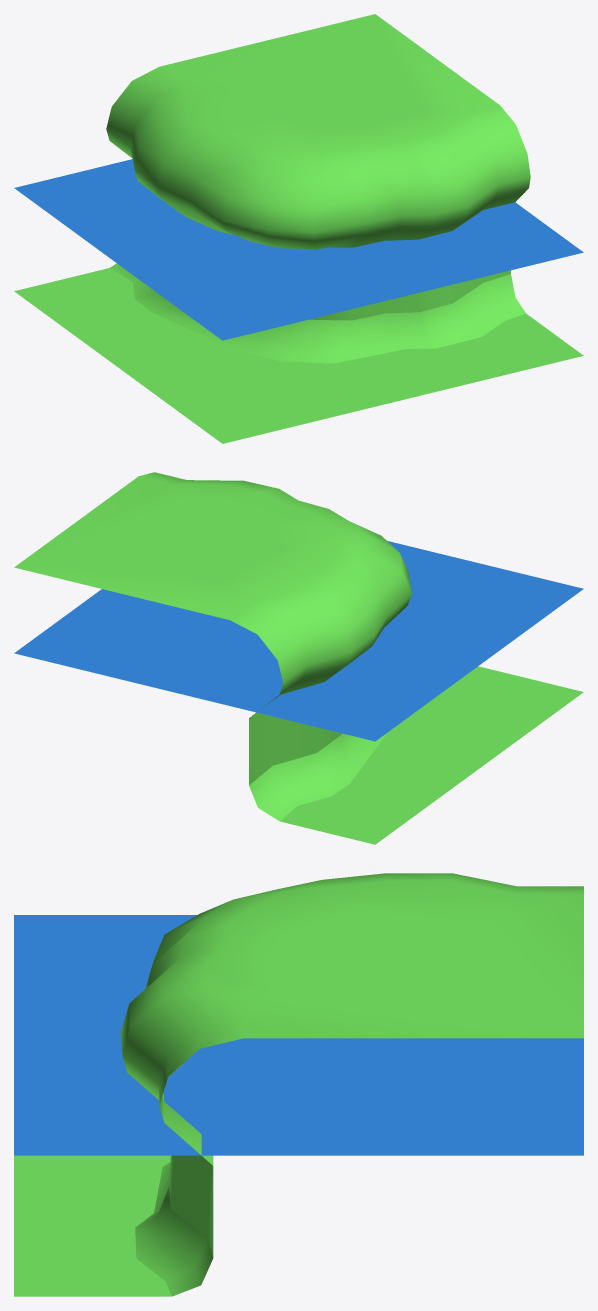
File: River_InteriorCorner_B_Mesh.fbx
3 renders of one model, top to bottom at view 1: azimuth 30°, elevation 25°; view 2: azimuth 150°, elevation 25°; view 3: azimuth 270°, elevation 25°, orthographic. The views are drawn at different scales.
Visible parts, largest first — view 1: River_InteriorCorner_B; view 2: River_InteriorCorner_B; view 3: River_InteriorCorner_B.
Boxes of the visible parts, bbox=[...] form: River_InteriorCorner_B: bbox=[14, 14, 583, 443]; River_InteriorCorner_B: bbox=[14, 472, 583, 844]; River_InteriorCorner_B: bbox=[14, 873, 583, 1296].
Bounding box in the file's own units: 200 × 200 × 100.
